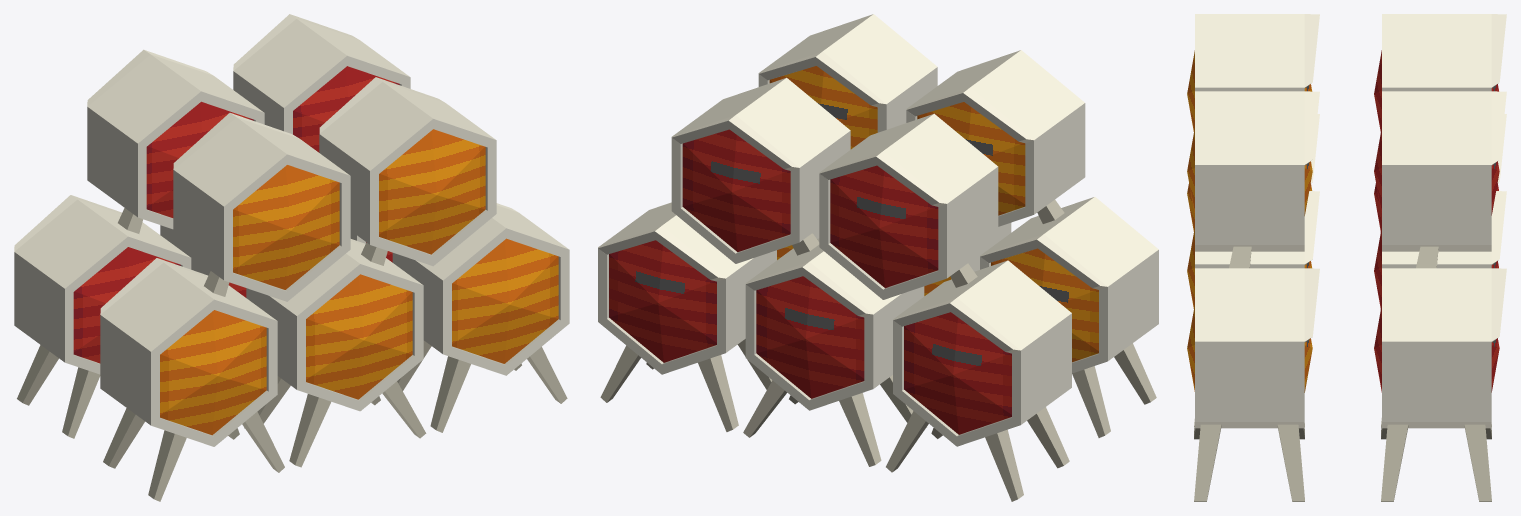
Rendered from W.Paseka_model.gltf.
The picture shows the model from 3 angles, left to right: view 1: azimuth 30°, elevation 25°; view 2: azimuth 150°, elevation 25°; view 3: azimuth 270°, elevation 25°; orthographic projection. The views are drawn at different scales.
Parts seen in each view (by area): view 1: cylinder (×2); view 2: cylinder (×2); view 3: cylinder (×2).
Part boxes in pixels (left/top/right/bottom): cylinder (×2): left=14, top=14, right=569, bottom=501; cylinder (×2): left=598, top=14, right=1158, bottom=501; cylinder (×2): left=1187, top=14, right=1506, bottom=501.
Bounding box in the file's own units: 5.38 × 3.88 × 3.28.
Materials: 2 (2 with a texture image).
